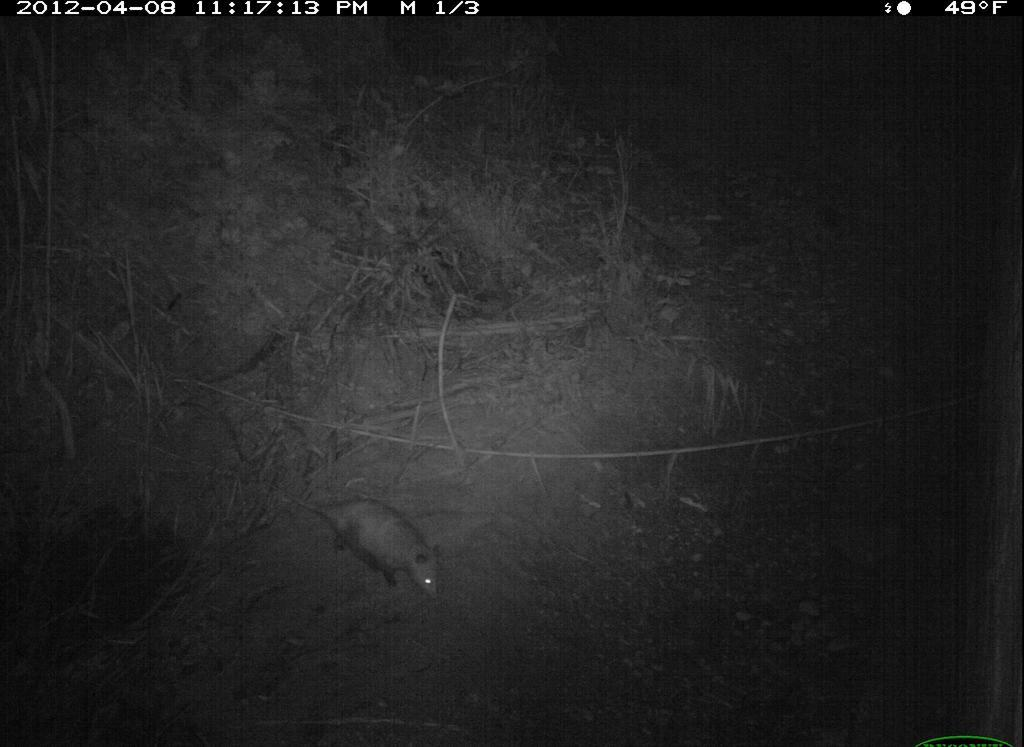opossum: (273, 475, 472, 620)
